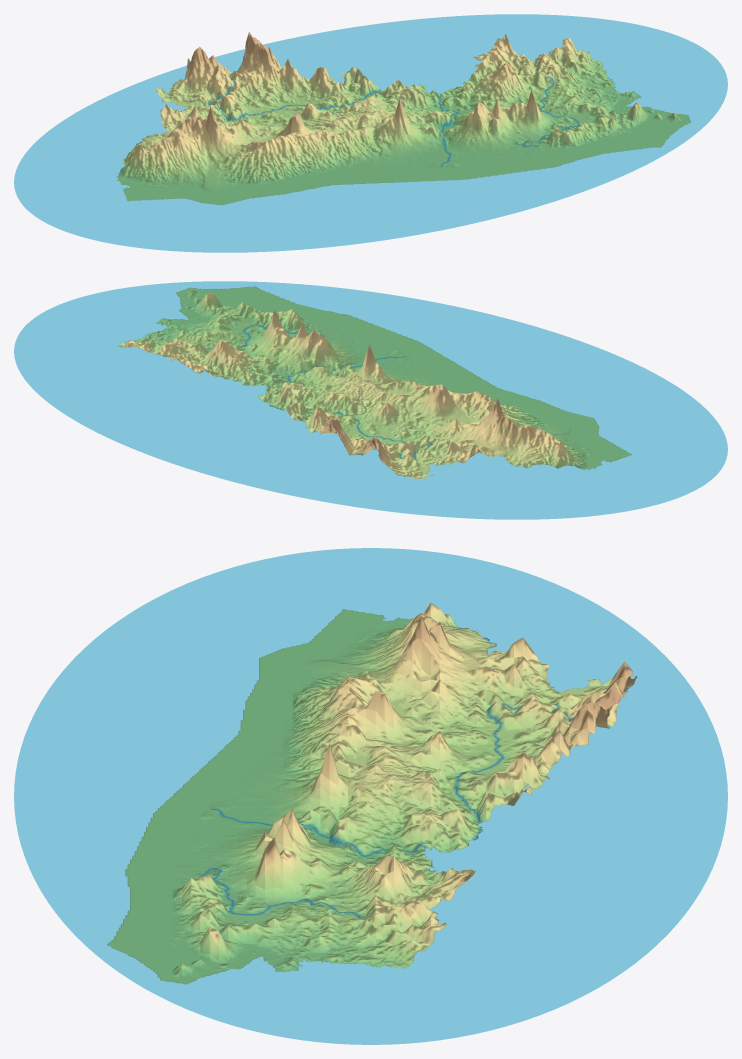
File: SLV-terrain.glb
3 views of the same model, one above another, from view 1: azimuth 30°, elevation 25°; view 2: azimuth 150°, elevation 25°; view 3: azimuth 270°, elevation 25° (orthographic). The views are drawn at different scales.
Visible parts, largest first — view 1: Relevo com hidrografia; view 2: Relevo com hidrografia; view 3: Relevo com hidrografia.
Boxes of the visible parts, x1,y1,x2,y2 form: Relevo com hidrografia: [14, 14, 727, 252]; Relevo com hidrografia: [14, 281, 727, 519]; Relevo com hidrografia: [14, 548, 727, 1044].
Bounding box in the file's own units: 2.13 × 0.1598 × 1.29.
Materials: 2 (1 with a texture image).
